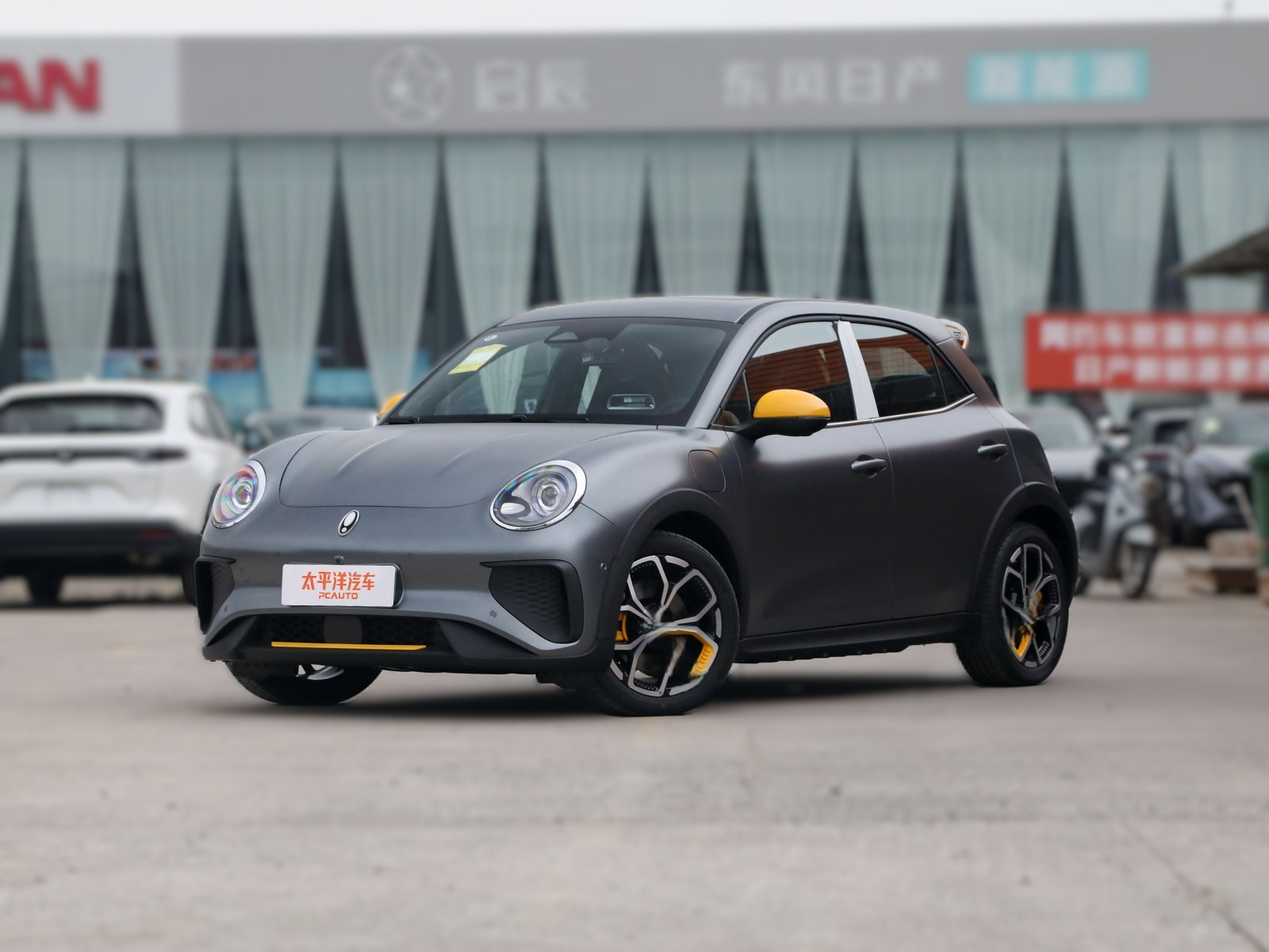ORA: (339, 510, 358, 536)
